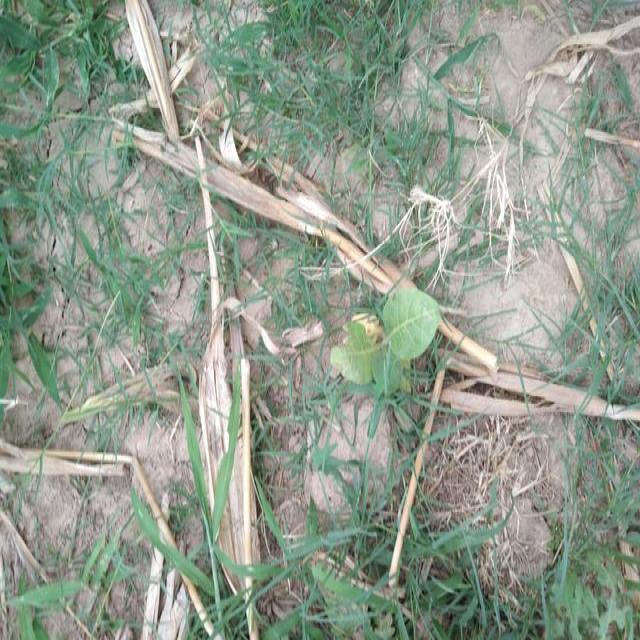crop: (326, 254, 452, 390)
